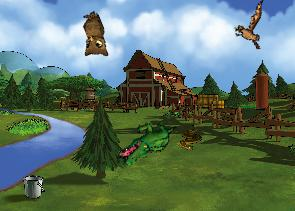crocodile: (115, 108, 178, 177)
eagle: (228, 0, 274, 54)
owl: (70, 9, 113, 63)
